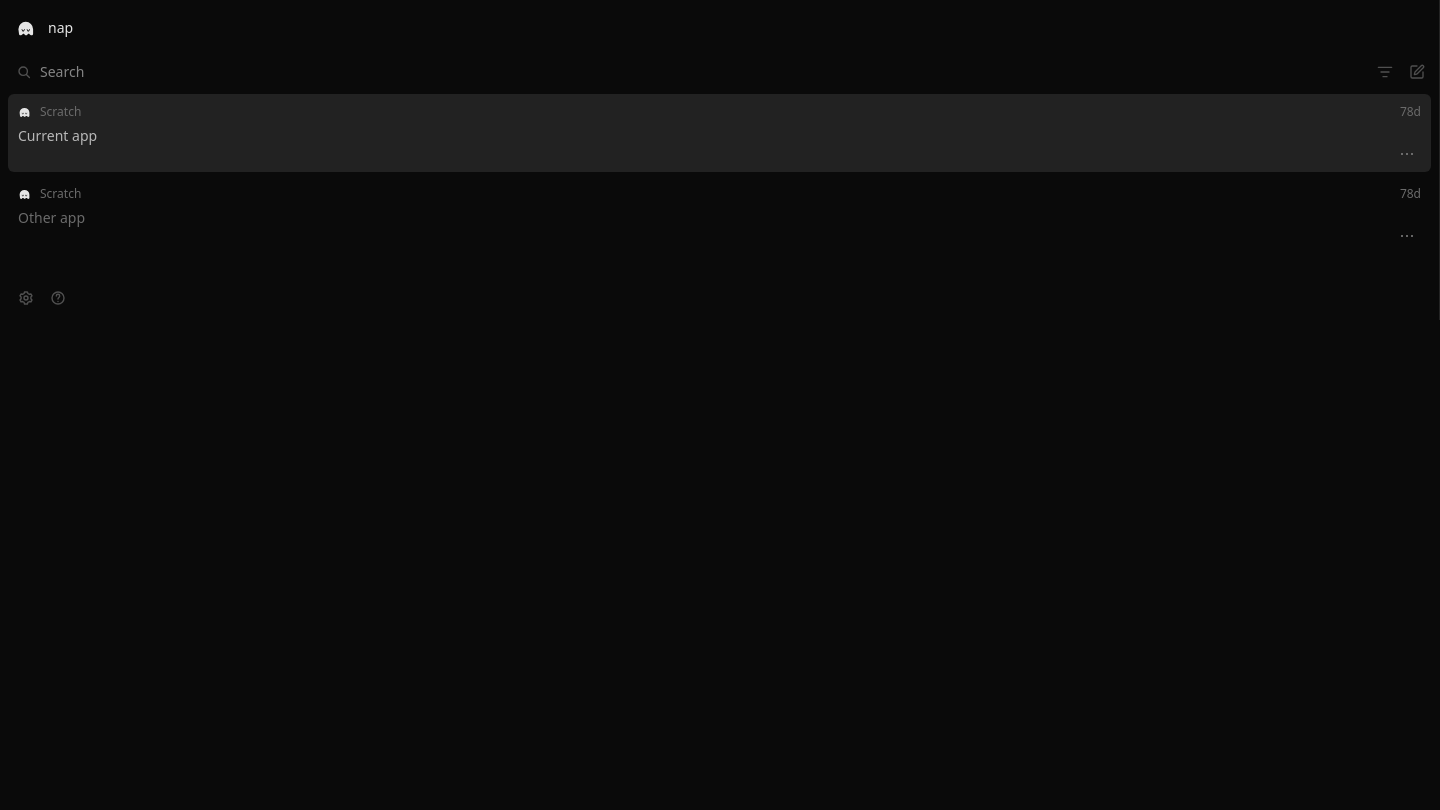
Scenario: deleting workspace sessions › keeps the active workspace when deletion is refused and shows why
Click the button named "Session actions for Current app".
click(1407, 154)  # box [1393, 140, 1421, 168]
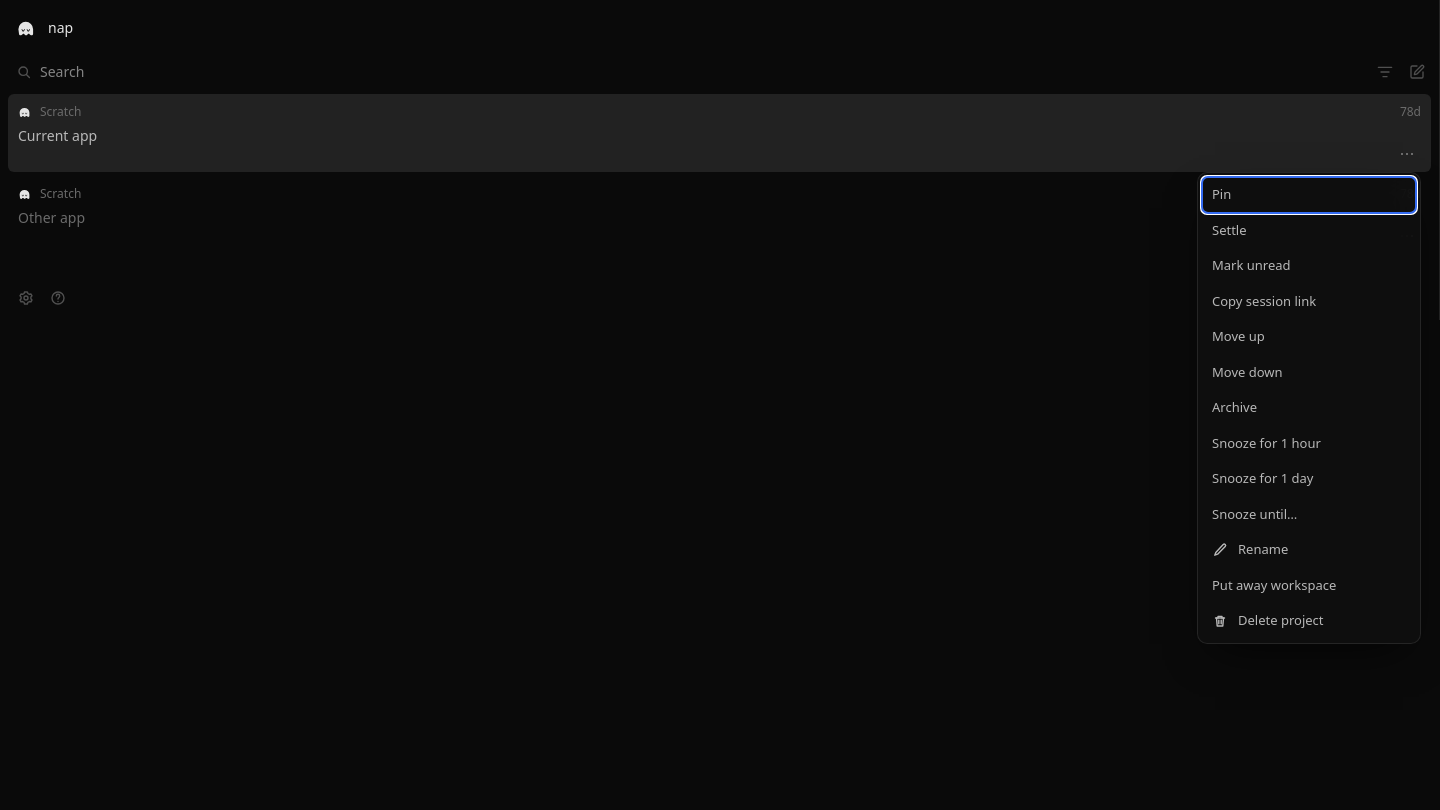
Click the button "Delete project".
click(1309, 621)  # box [1202, 603, 1416, 638]
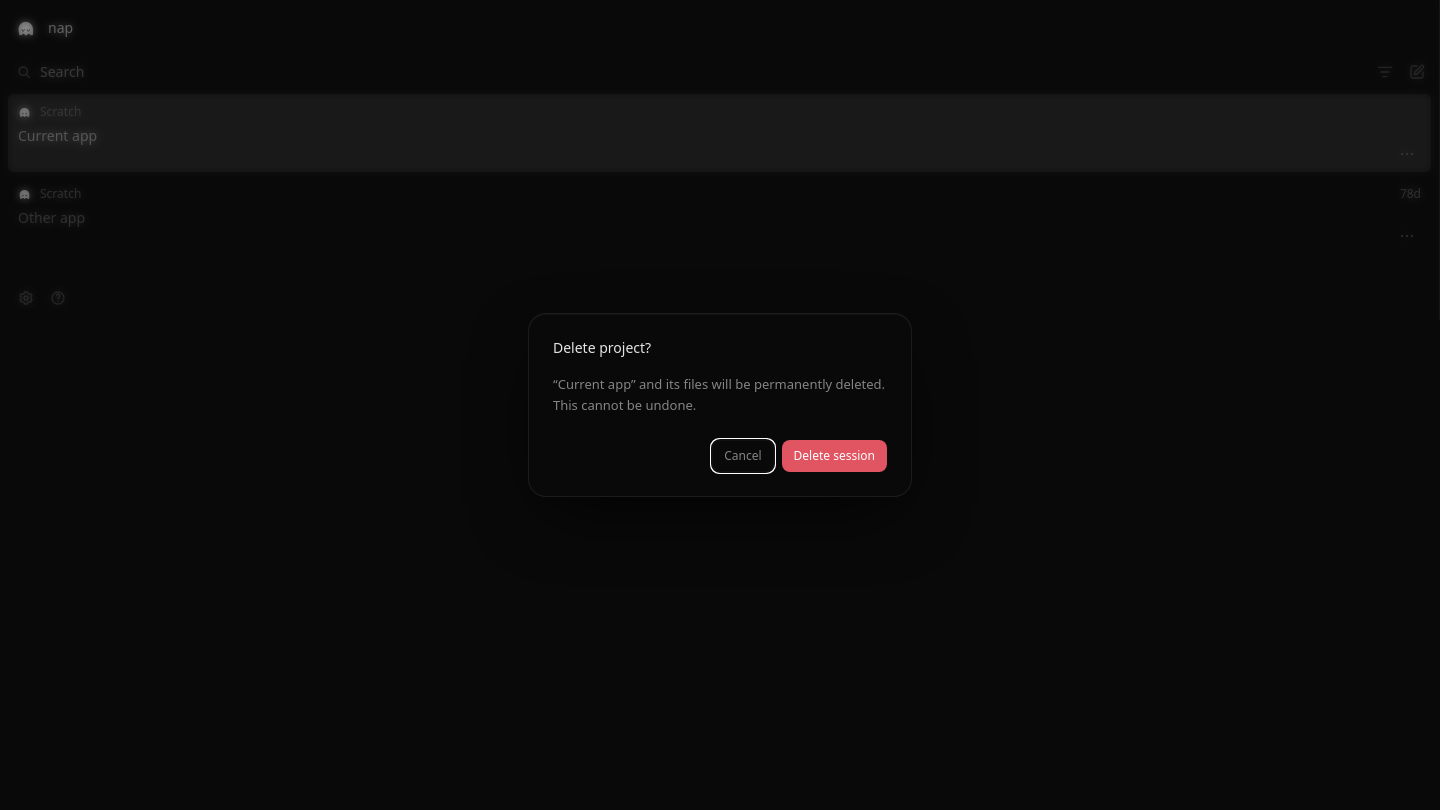
Click the button "Delete session".
click(834, 456)  # box [782, 440, 887, 472]
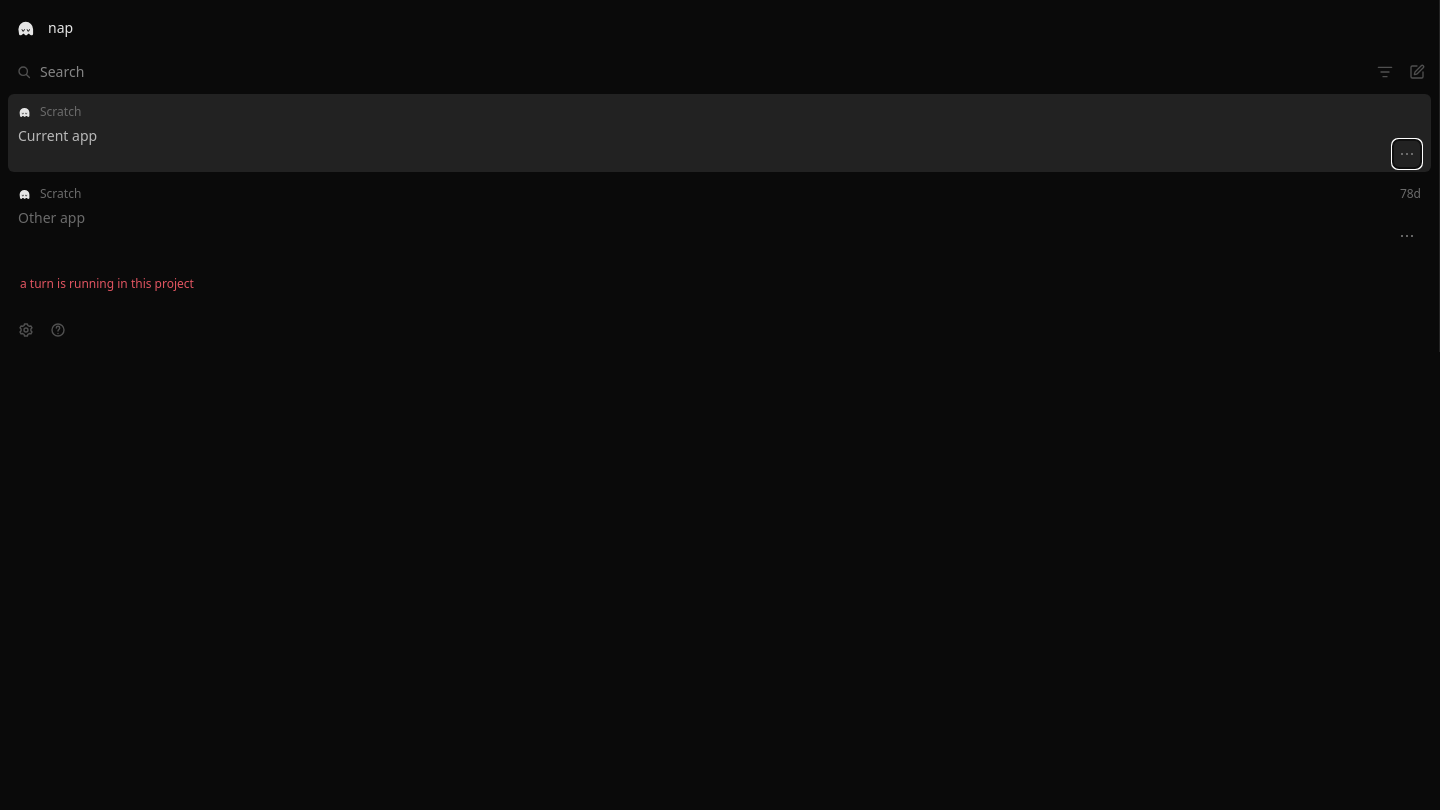
Check: the button named "Session actions for Current app" is shown, box [1393, 140, 1421, 168]
Check: the message reads "a turn is running in this project", box [20, 275, 194, 292]
